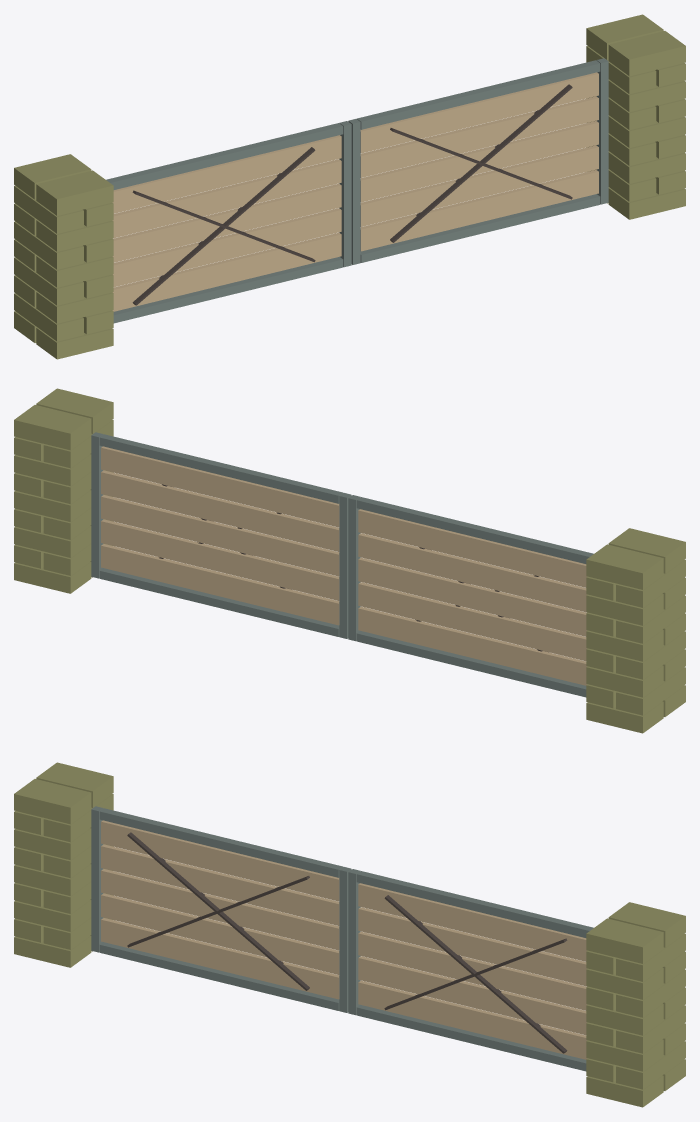
File: SM_PuertaVehiculos_Castellon_v2_LOD0.fbx
3 views of the same model, one above another, from view 1: azimuth 30°, elevation 25°; view 2: azimuth 150°, elevation 25°; view 3: azimuth 330°, elevation 25° (orthographic).
Parts seen in each view (by area): view 1: Hoja_E, Hoja_O, SM_bloques.puerta_vehiculos_v2_LOD0; view 2: Hoja_E, Hoja_O, SM_bloques.puerta_vehiculos_v2_LOD0; view 3: Hoja_O, Hoja_E, SM_bloques.puerta_vehiculos_v2_LOD0.
Part boxes in pixels (x1,y1,x2,y2): Hoja_E: (348,58,608,264); Hoja_O: (106,121,351,323); SM_bloques.puerta_vehiculos_v2_LOD0: (14,14,685,359); Hoja_E: (91,432,351,638); Hoja_O: (348,495,593,697); SM_bloques.puerta_vehiculos_v2_LOD0: (14,388,685,733); Hoja_O: (91,806,351,1012); Hoja_E: (348,869,593,1071); SM_bloques.puerta_vehiculos_v2_LOD0: (14,762,685,1107).
Size of the model in its own units: 9.78 by 2.38 by 1.16.
